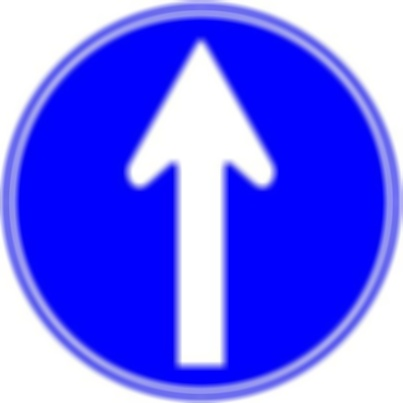Direction_sign: (1, 2, 395, 399)
